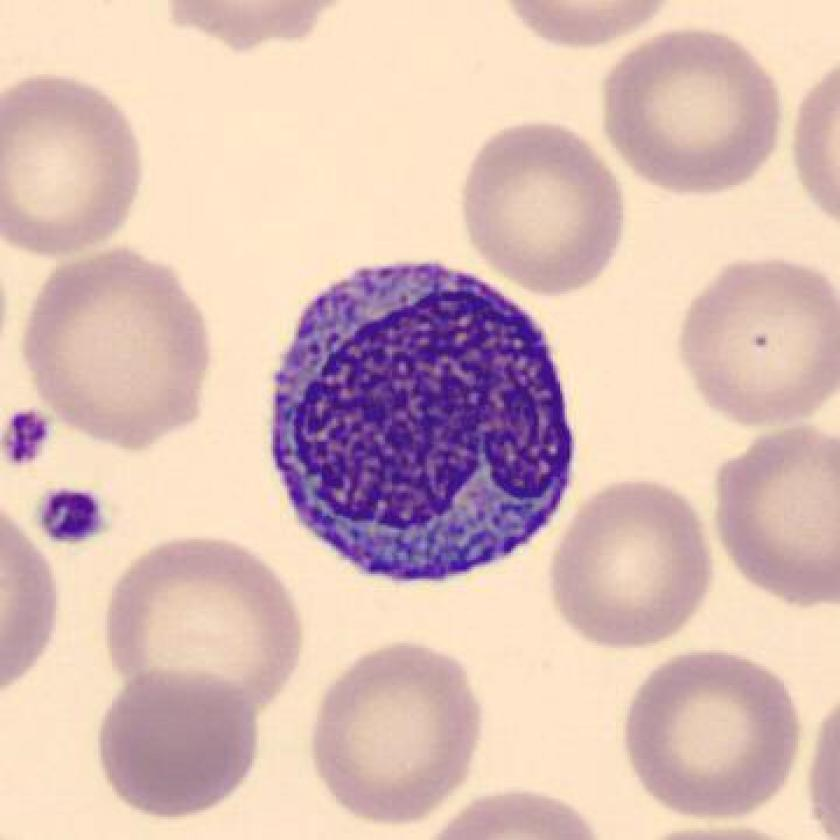monocyte: (244, 246, 598, 598)
